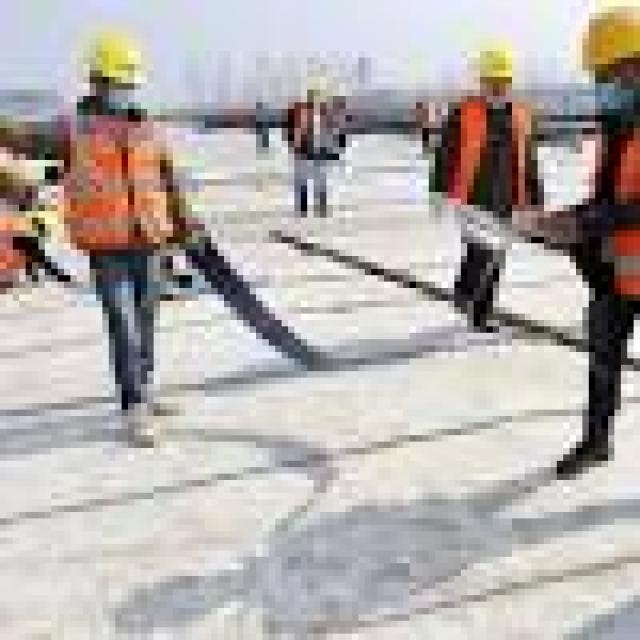Reflective-Jacket: (45, 102, 179, 276), (436, 90, 550, 218), (582, 102, 640, 314)
Safety-Helmet: (57, 13, 166, 102), (563, 0, 640, 83)
